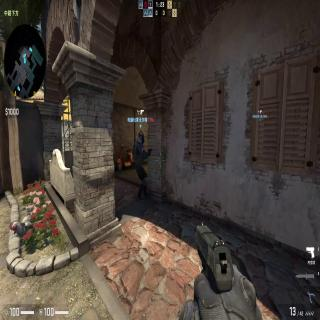CT-Body: (132, 130, 150, 199)
CT-Head: (138, 130, 145, 145)
